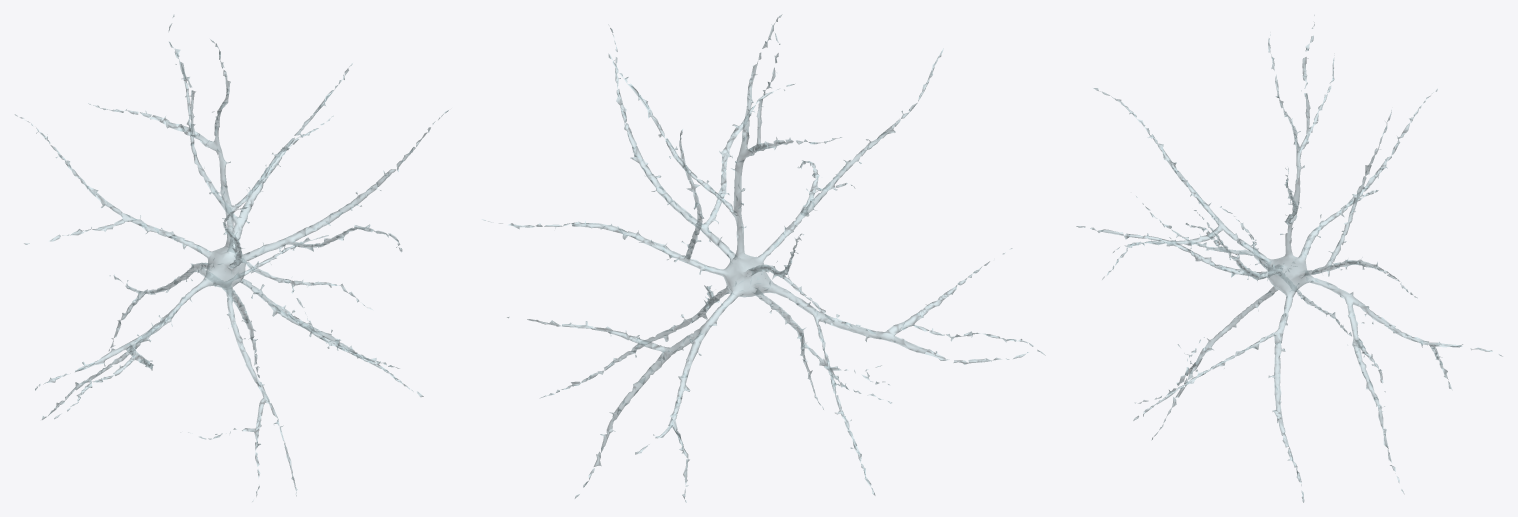
The model's file is neuron-spinous-stellate-cell.glb.
3 renders of one model, left to right at view 1: azimuth 30°, elevation 25°; view 2: azimuth 150°, elevation 25°; view 3: azimuth 270°, elevation 25°, orthographic. The views are drawn at different scales.
Size of the model in its own units: 9.05 by 9.25 by 8.58.
